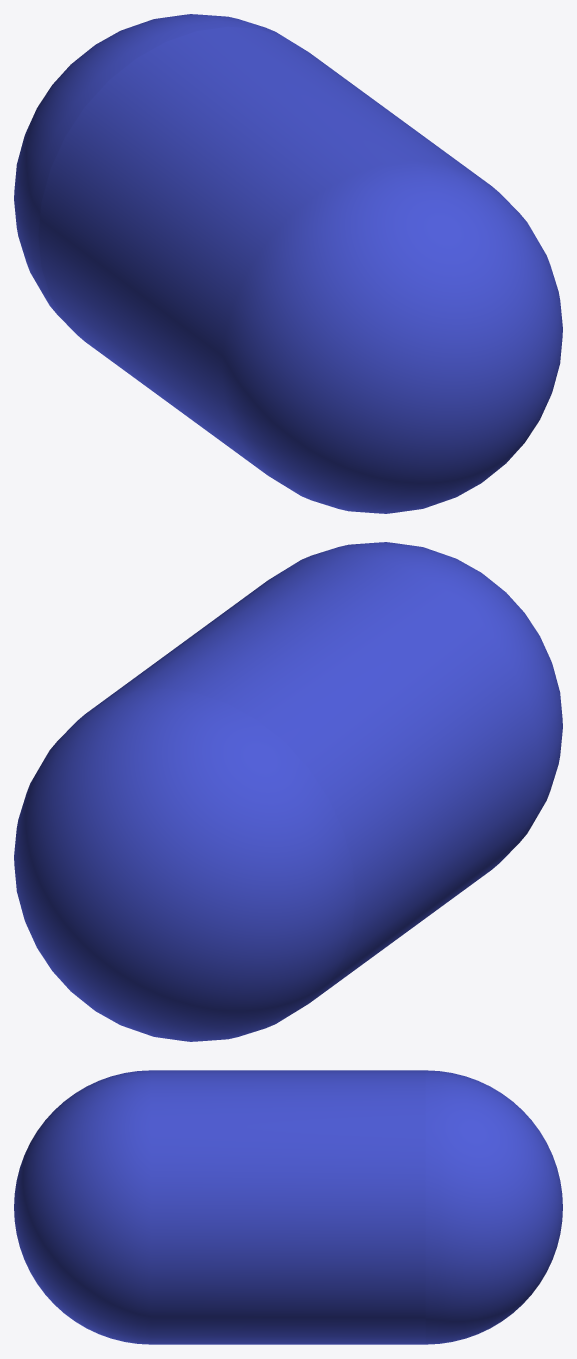
3 renders of one model, top to bottom at view 1: azimuth 30°, elevation 25°; view 2: azimuth 150°, elevation 25°; view 3: azimuth 270°, elevation 25°, orthographic. The views are drawn at different scales.
Visible parts, largest first — view 1: Sphere; view 2: Sphere; view 3: Sphere.
Part boxes in pixels (left/top/right/bottom): Sphere: left=14, top=14, right=562, bottom=513; Sphere: left=14, top=542, right=562, bottom=1041; Sphere: left=14, top=1070, right=562, bottom=1344.
Bounding box in the file's own units: 0.5 × 0.5 × 1.
